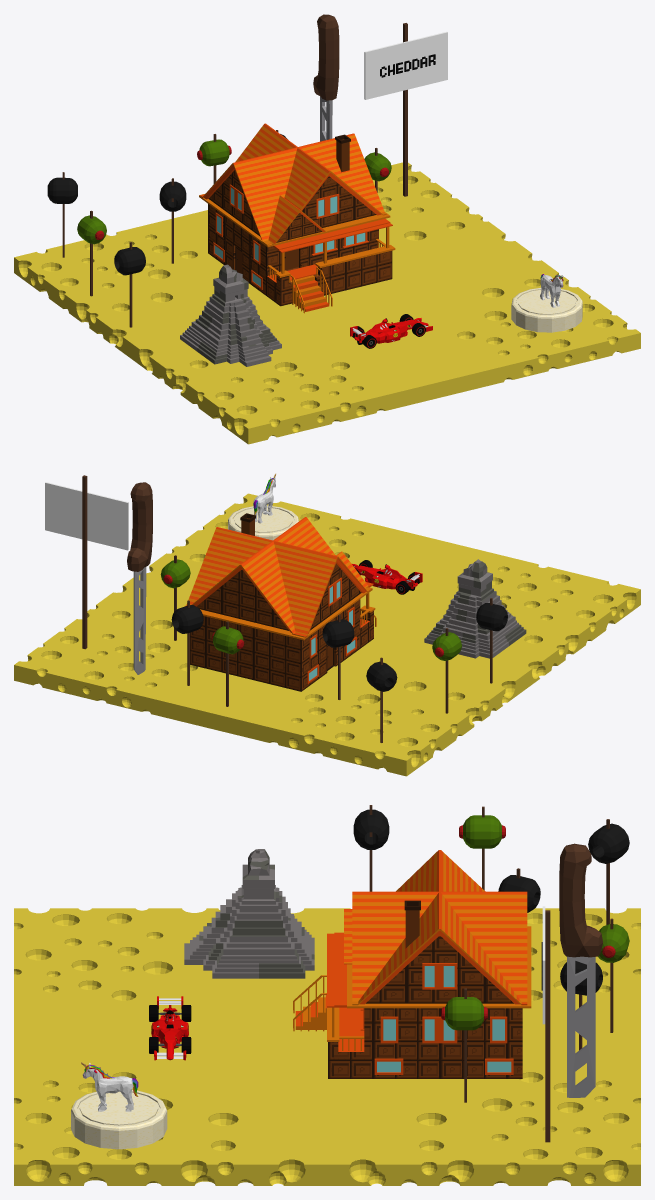
3 views of the same model, one above another, from view 1: azimuth 30°, elevation 25°; view 2: azimuth 150°, elevation 25°; view 3: azimuth 270°, elevation 25° (orthographic). The views are drawn at different scales.
Parts seen in each view (by area): view 1: Cube.022, Cube, OBJRANDOM_GRAN_JAGUAR, Cube.023, Cylinder.016, Cube.024, VEHICLES_FORMULA_1, Sphere.017, Sphere.016, Sphere.020, Sphere.018, Sphere.022 (+1 smaller); view 2: Cube.022, Cube, Cube.023, OBJRANDOM_GRAN_JAGUAR, Cube.024, Cylinder.016, VEHICLES_FORMULA_1, Sphere.020, Sphere.017, Sphere.021, Sphere.018, Sphere.016 (+3 smaller); view 3: Cube.022, Cube, OBJRANDOM_GRAN_JAGUAR, Cube.024, Cylinder.016, VEHICLES_FORMULA_1, Cube.023, Sphere.019, Sphere.016, Sphere.018, Sphere.017, ANIMAL_UNICORNIO (+3 smaller).
Boxes of the visible parts, left/top/right/bottom form: Cube.022: left=14, top=162, right=640, bottom=444; Cube: left=199, top=123, right=395, bottom=313; OBJRANDOM_GRAN_JAGUAR: left=180, top=264, right=281, bottom=366; Cube.023: left=364, top=23, right=447, bottom=196; Cylinder.016: left=511, top=287, right=582, bottom=332; Cube.024: left=313, top=14, right=339, bottom=141; VEHICLES_FORMULA_1: left=350, top=314, right=432, bottom=348; Sphere.017: left=114, top=242, right=145, bottom=327; Sphere.016: left=47, top=172, right=77, bottom=257; Sphere.020: left=159, top=178, right=186, bottom=263; Sphere.018: left=77, top=210, right=106, bottom=296; Sphere.022: left=197, top=134, right=231, bottom=183; Cube.022: left=14, top=493, right=640, bottom=776; Cube: left=184, top=513, right=376, bottom=691; Cube.023: left=45, top=475, right=128, bottom=649; OBJRANDOM_GRAN_JAGUAR: left=424, top=559, right=526, bottom=658; Cube.024: left=127, top=482, right=152, bottom=674; Cylinder.016: left=228, top=505, right=298, bottom=540; VEHICLES_FORMULA_1: left=352, top=560, right=422, bottom=594; Sphere.020: left=322, top=614, right=354, bottom=699; Sphere.017: left=476, top=598, right=507, bottom=683; Sphere.021: left=171, top=600, right=203, bottom=685; Sphere.018: left=432, top=628, right=461, bottom=713; Sphere.016: left=366, top=657, right=397, bottom=742; Cube.022: left=14, top=908, right=640, bottom=1185; Cube: left=293, top=850, right=531, bottom=1078; OBJRANDOM_GRAN_JAGUAR: left=184, top=849, right=314, bottom=978; Cube.024: left=559, top=843, right=602, bottom=1097; Cylinder.016: left=71, top=1090, right=167, bottom=1149; VEHICLES_FORMULA_1: left=149, top=996, right=191, bottom=1060; Cube.023: left=541, top=906, right=550, bottom=1142; Sphere.019: left=441, top=988, right=487, bottom=1102; Sphere.016: left=588, top=819, right=629, bottom=924; Sphere.018: left=459, top=806, right=505, bottom=890; Sphere.017: left=353, top=805, right=389, bottom=891; ANIMAL_UNICORNIO: left=81, top=1062, right=138, bottom=1111.
Size of the model in its own units: 3917 by 2023 by 4000.
Materials: 41 (4 with a texture image).
